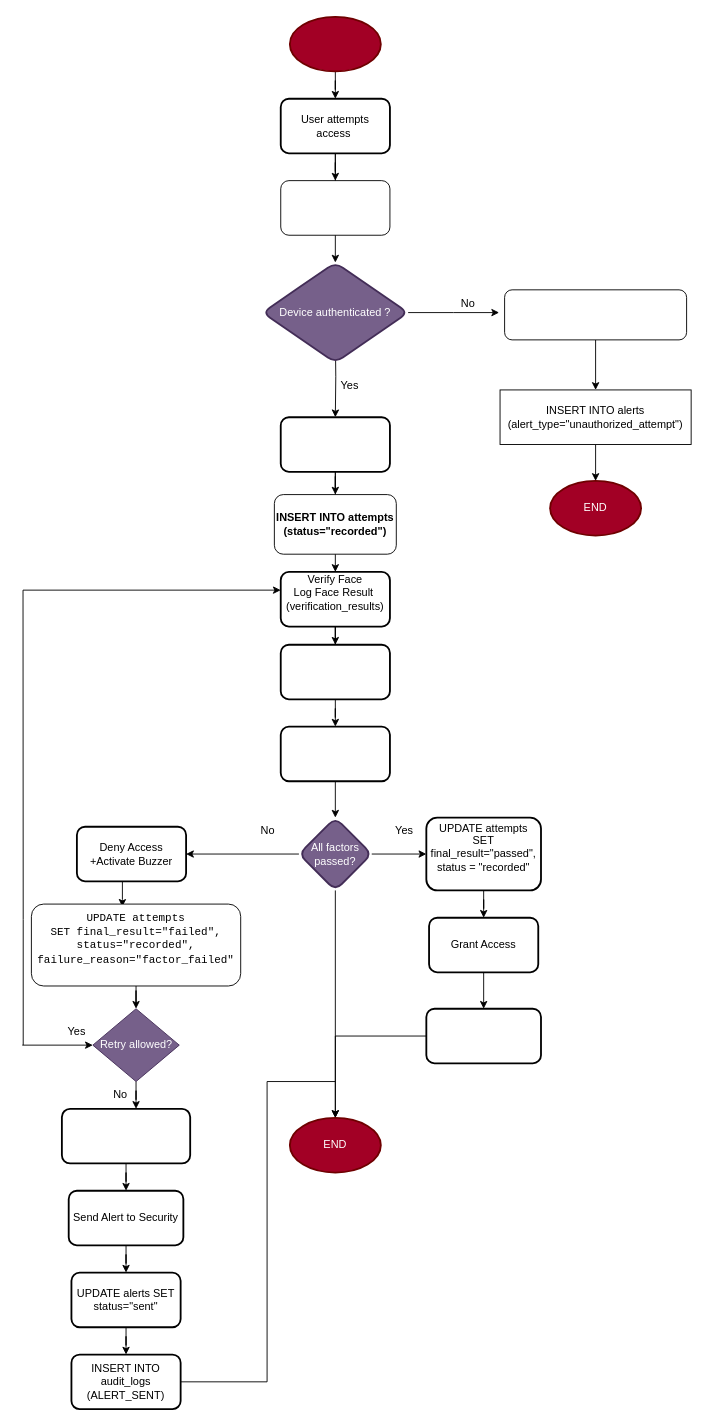
This 707x1425 diagram has some shape labels left out. Here are the shapes that lost their labels. From the top down, the centre of each, then its label:
At (334,43): "Start".
At (335,207): "Device sends request to backend".
At (595,314): "Reject request (401/403)".
At (334,444): "Capture face+ voice +ECG".
At (334,671): "Verify Voice Log Voice Result (verification_results)".
At (334,753): "Verify ECG Log ECG Result (verification_results)".
At (483,1035): "INSERT INTO audit_logs (ACCESS_GRANTED)".
At (126,1135): "INSERT INTO alerts (verification_failed)".
